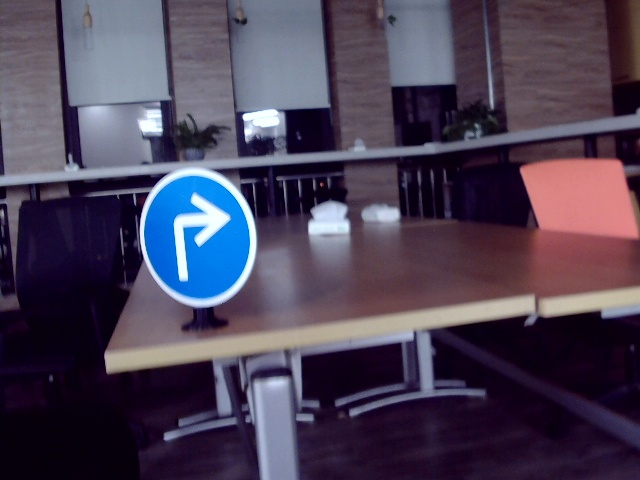turn_right: (165, 191, 229, 284)
